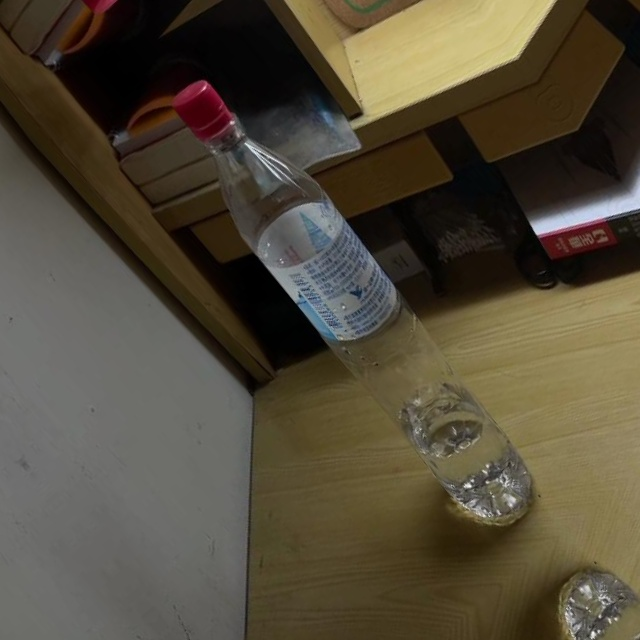Water: (136, 61, 567, 546)
